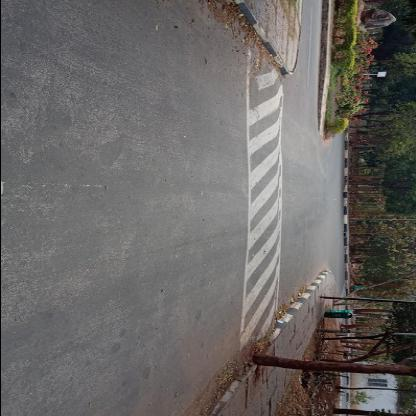speed-bumps: (235, 48, 289, 350)
